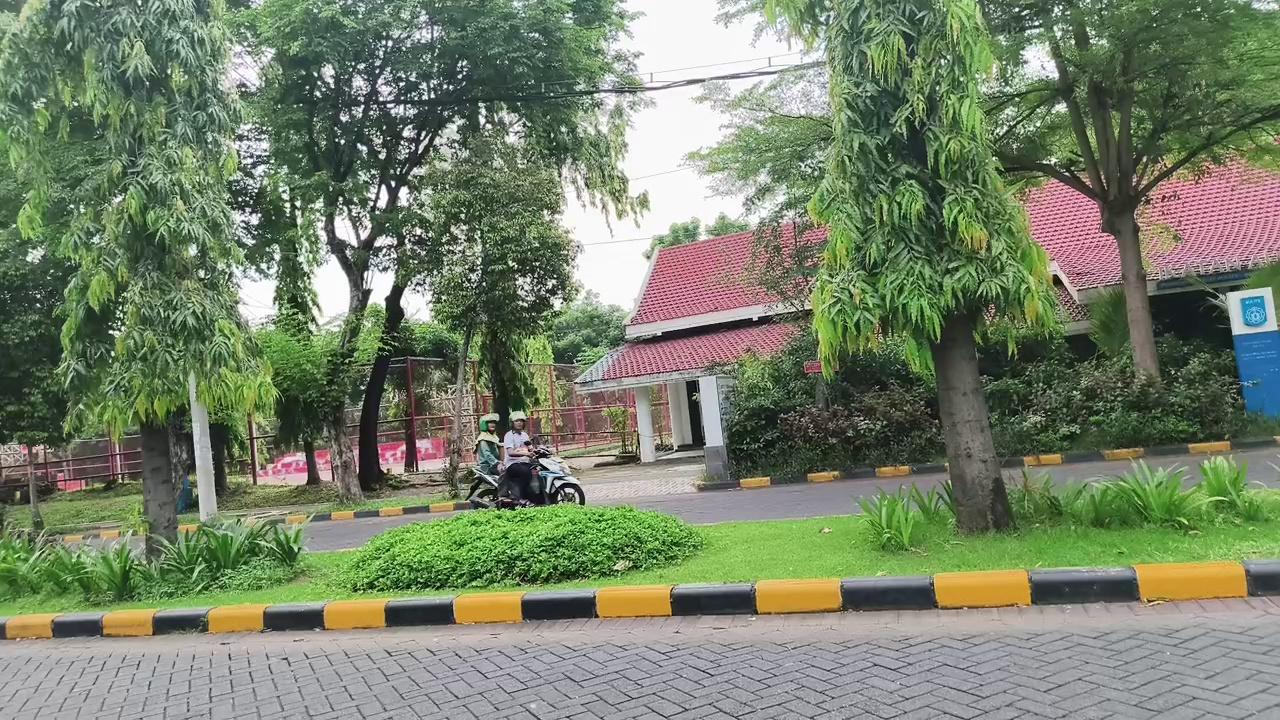Helmet: (503, 411, 533, 500), (474, 414, 501, 475)
Motor: (527, 448, 584, 504)
